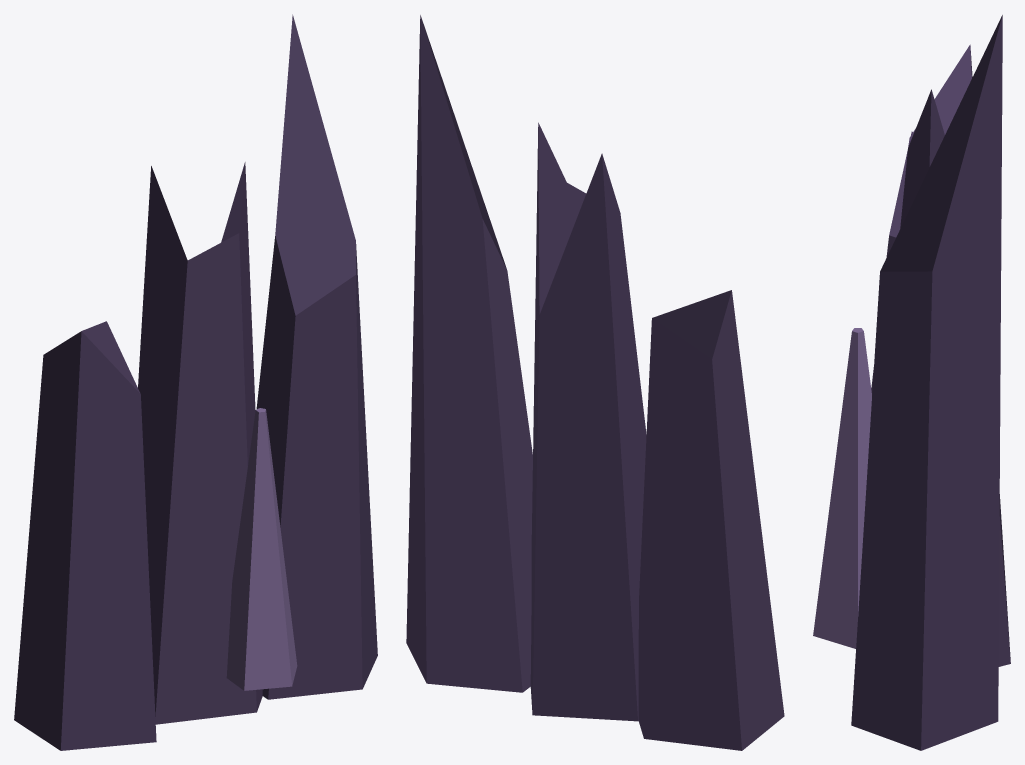
Rendered from map-boundaries-v5__dragon_05.glb.
3 renders of one model, left to right at view 1: azimuth 30°, elevation 25°; view 2: azimuth 150°, elevation 25°; view 3: azimuth 270°, elevation 25°, orthographic. The views are drawn at different scales.
Visible parts, largest first — view 1: dragon_05; view 2: dragon_05; view 3: dragon_05.
Boxes of the visible parts, x1=… form: dragon_05: x1=14, y1=14, x2=377, y2=750; dragon_05: x1=406, y1=15, x2=784, y2=750; dragon_05: x1=813, y1=15, x2=1010, y2=750.
Size of the model in its own units: 1.41 by 2.49 by 0.6288.
